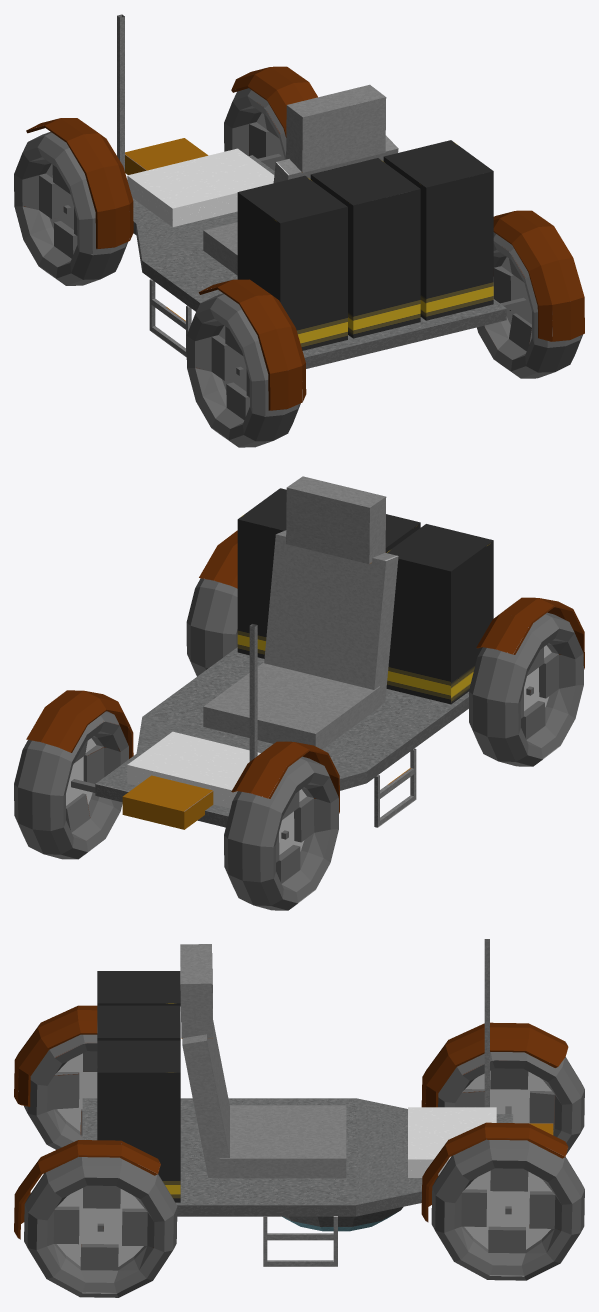
File: buggy.obj
3 views of the same model, one above another, from view 1: azimuth 30°, elevation 25°; view 2: azimuth 150°, elevation 25°; view 3: azimuth 270°, elevation 25° (orthographic). The views are drawn at different scales.
Parts seen in each view (by area): view 1: MainBody, Wheel_Back_Left, Wheel_Front_Left, CargoLeft, Wheel_Back_Right, CargoRight, CargoMid, Wheel_Front_Right; view 2: MainBody, Wheel_Back_Left, Wheel_Front_Left, CargoLeft, Wheel_Front_Right, CargoRight, Wheel_Back_Right, CargoMid; view 3: MainBody, Wheel_Front_Right, Wheel_Back_Right, Wheel_Front_Left, CargoRight, Wheel_Back_Left, CargoMid, CargoLeft, RadarDish_Dish.
Boxes of the visible parts, <box> form: MainBody: <box>117,14,506,368</box>; Wheel_Back_Left: <box>186,279,306,447</box>; Wheel_Front_Left: <box>14,118,133,285</box>; CargoLeft: <box>237,175,347,350</box>; Wheel_Back_Right: <box>477,210,584,378</box>; CargoRight: <box>383,140,493,320</box>; CargoMid: <box>310,158,420,338</box>; Wheel_Front_Right: <box>224,66,317,170</box>; MainBody: <box>95,476,468,829</box>; Wheel_Back_Left: <box>469,597,584,766</box>; Wheel_Front_Left: <box>224,741,339,910</box>; CargoLeft: <box>386,524,493,704</box>; Wheel_Front_Right: <box>14,690,133,859</box>; CargoRight: <box>237,488,286,658</box>; Wheel_Back_Right: <box>186,530,237,676</box>; CargoMid: <box>385,514,420,552</box>; MainBody: <box>82,939,553,1266</box>; Wheel_Front_Right: <box>421,1122,584,1280</box>; Wheel_Back_Right: <box>14,1140,177,1297</box>; Wheel_Front_Left: <box>421,1022,584,1154</box>; CargoRight: <box>97,1040,180,1202</box>; Wheel_Back_Left: <box>14,1005,97,1149</box>; CargoMid: <box>97,1005,180,1040</box>; CargoLeft: <box>97,971,180,1005</box>; RadarDish_Dish: <box>282,1207,403,1231</box>.
Bounding box in the file's own units: 5.91 × 4.58 × 9.02.
